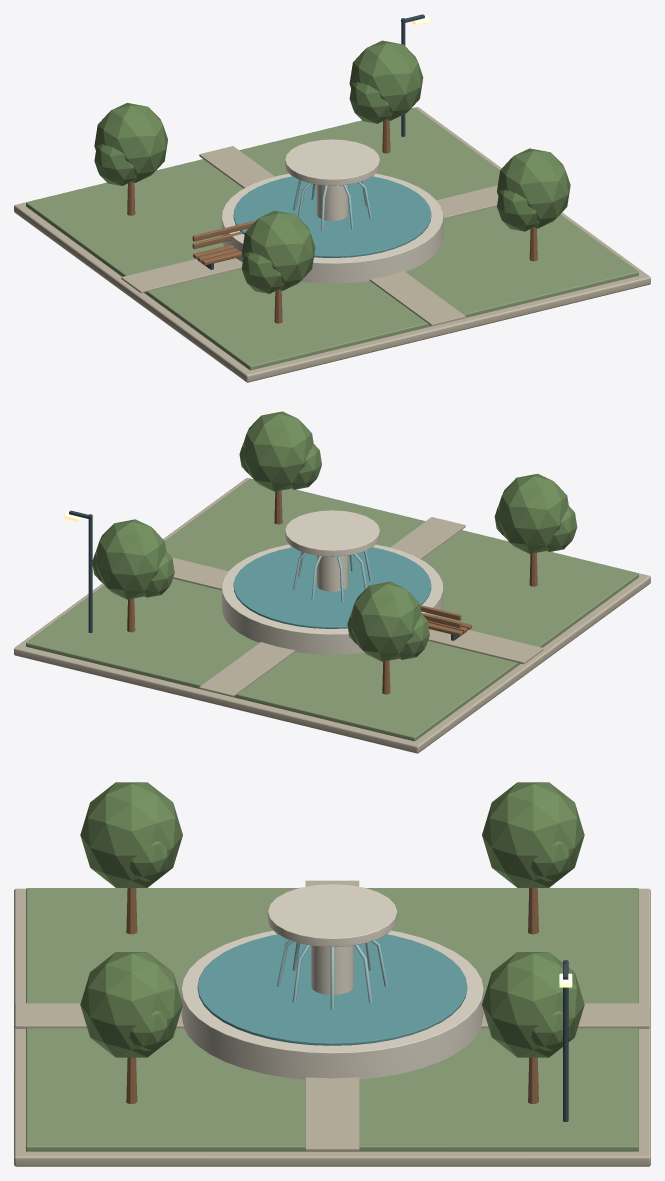
File: plaza.glb
The picture shows the model from 3 angles, top to bottom: view 1: azimuth 30°, elevation 25°; view 2: azimuth 150°, elevation 25°; view 3: azimuth 270°, elevation 25°; orthographic projection. The views are drawn at different scales.
Parts seen in each view (by area): view 1: plaza_Garden_Lawn, plaza_Fountain_Water, plaza_Site_Paving, plaza_Fountain_Basin, plaza_Garden_Walk_Z, plaza_Tree_Crown.006, plaza_Tree_Crown.009, plaza_Tree_Crown, plaza_Tree_Crown.003, plaza_Fountain_Tier, plaza_Garden_Walk_X, plaza_Tree_Crown.010 (+4 smaller); view 2: plaza_Garden_Lawn, plaza_Fountain_Water, plaza_Site_Paving, plaza_Fountain_Basin, plaza_Tree_Crown, plaza_Tree_Crown.003, plaza_Tree_Crown.009, plaza_Tree_Crown.006, plaza_Garden_Walk_Z, plaza_Fountain_Tier, plaza_Garden_Walk_X, plaza_Fountain_Centre (+5 smaller); view 3: plaza_Garden_Lawn, plaza_Fountain_Water, plaza_Site_Paving, plaza_Fountain_Basin, plaza_Tree_Crown.003, plaza_Tree_Crown.006, plaza_Tree_Crown, plaza_Tree_Crown.009, plaza_Fountain_Tier, plaza_Garden_Walk_X, plaza_Garden_Walk_Z, plaza_Fountain_Centre (+5 smaller).
Boxes of the visible parts, left/top/right/bottom form: plaza_Garden_Lawn: left=26, top=107, right=638, bottom=370; plaza_Fountain_Water: left=233, top=176, right=431, bottom=257; plaza_Site_Paving: left=14, top=107, right=650, bottom=382; plaza_Fountain_Basin: left=221, top=173, right=443, bottom=283; plaza_Garden_Walk_Z: left=199, top=146, right=465, bottom=326; plaza_Tree_Crown.006: left=241, top=210, right=315, bottom=290; plaza_Tree_Crown.009: left=349, top=40, right=423, bottom=120; plaza_Tree_Crown: left=94, top=103, right=167, bottom=182; plaza_Tree_Crown.003: left=497, top=148, right=570, bottom=228; plaza_Fountain_Tier: left=285, top=139, right=379, bottom=185; plaza_Garden_Walk_X: left=121, top=185, right=498, bottom=293; plaza_Tree_Crown.010: left=349, top=82, right=391, bottom=123; plaza_Garden_Lawn: left=26, top=478, right=638, bottom=741; plaza_Fountain_Water: left=233, top=547, right=431, bottom=628; plaza_Site_Paving: left=14, top=478, right=650, bottom=753; plaza_Fountain_Basin: left=221, top=544, right=443, bottom=654; plaza_Tree_Crown: left=351, top=581, right=421, bottom=661; plaza_Tree_Crown.003: left=243, top=411, right=313, bottom=491; plaza_Tree_Crown.009: left=96, top=519, right=166, bottom=599; plaza_Tree_Crown.006: left=498, top=473, right=568, bottom=553; plaza_Garden_Walk_Z: left=199, top=517, right=465, bottom=696; plaza_Fountain_Tier: left=285, top=510, right=379, bottom=556; plaza_Garden_Walk_X: left=172, top=557, right=543, bottom=664; plaza_Fountain_Centre: left=316, top=555, right=348, bottom=591; plaza_Garden_Lawn: left=26, top=888, right=638, bottom=1151; plaza_Fountain_Water: left=197, top=934, right=467, bottom=1045; plaza_Site_Paving: left=14, top=888, right=650, bottom=1166; plaza_Fountain_Basin: left=181, top=930, right=483, bottom=1079; plaza_Tree_Crown.003: left=80, top=952, right=182, bottom=1057; plaza_Tree_Crown.006: left=80, top=782, right=182, bottom=887; plaza_Tree_Crown: left=482, top=782, right=584, bottom=887; plaza_Tree_Crown.009: left=482, top=952, right=584, bottom=1057; plaza_Fountain_Tier: left=267, top=884, right=397, bottom=946; plaza_Garden_Walk_X: left=305, top=880, right=359, bottom=1151; plaza_Garden_Walk_Z: left=15, top=1003, right=649, bottom=1028; plaza_Fountain_Centre: left=311, top=945, right=353, bottom=994.
Bounding box in the file's own units: 11.8 × 3.6 × 11.8.
